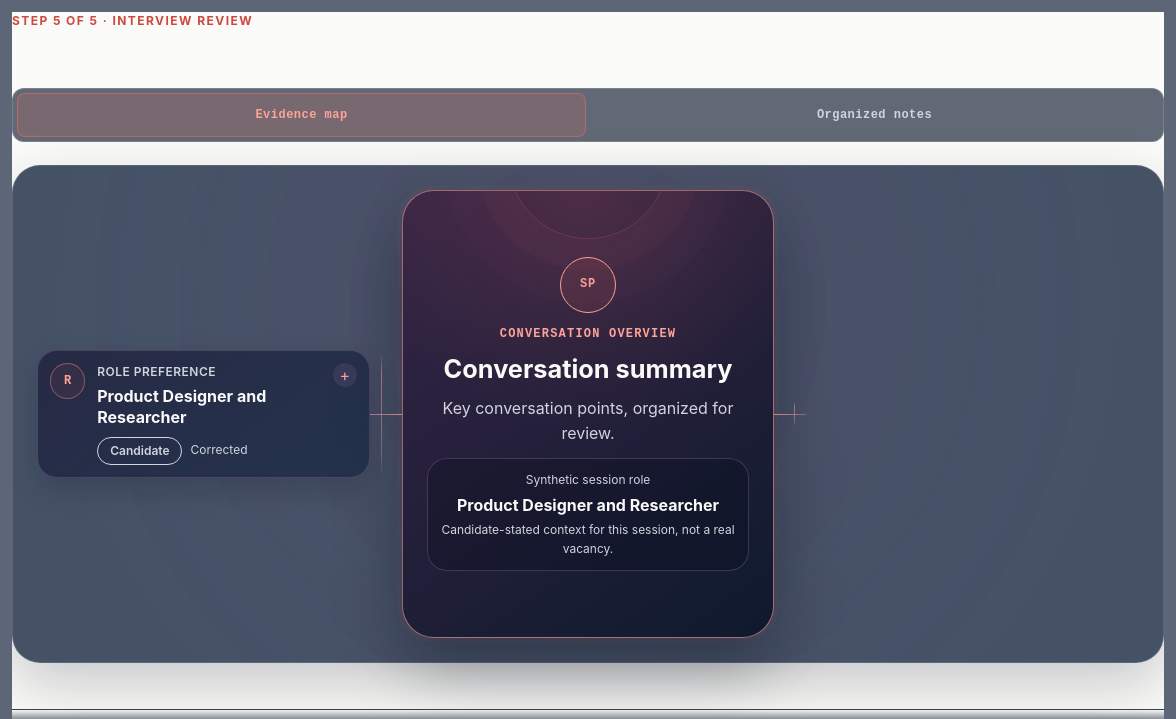
Test: InterviewEvidenceReview › previews the latest correction turn while retaining earlier role evidence as history
The image size is (1176, 719).
Click the button that starts with "Role preference" at (68, 381), box [37,350,370,478]
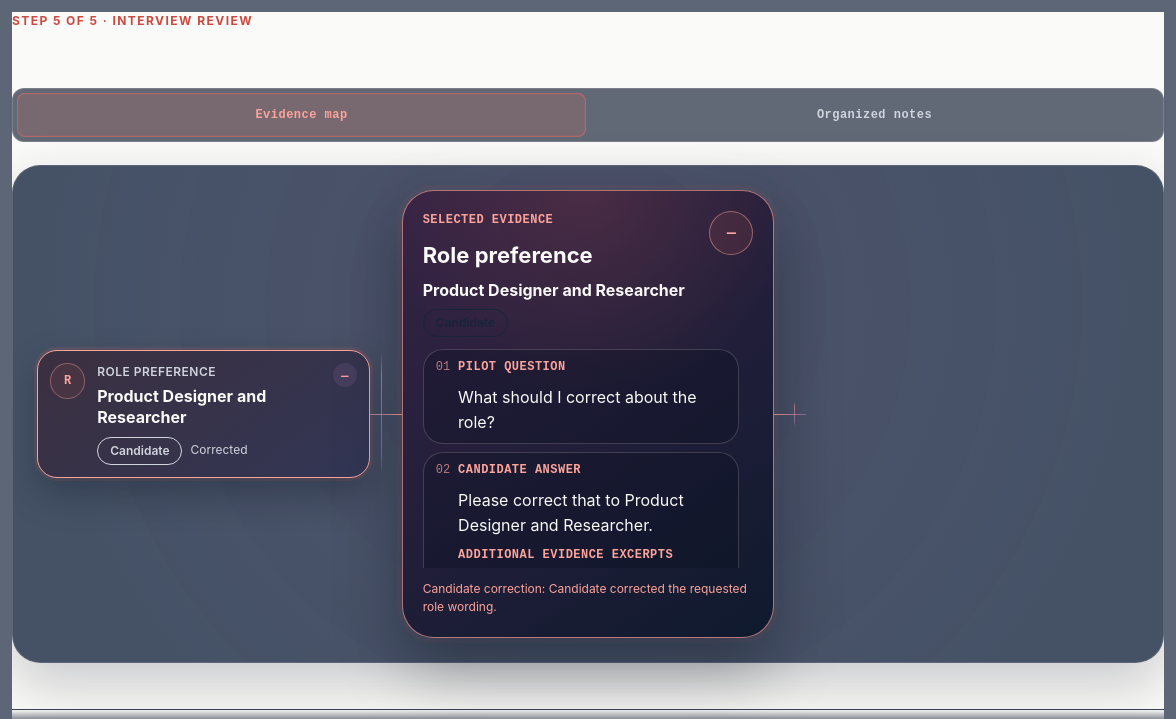
Result: the text "What should I correct about the role?" is shown at [458,385,726,435]
Result: the text "Please correct that to Product Designer and Researcher." is shown at [458,490,684,535]
